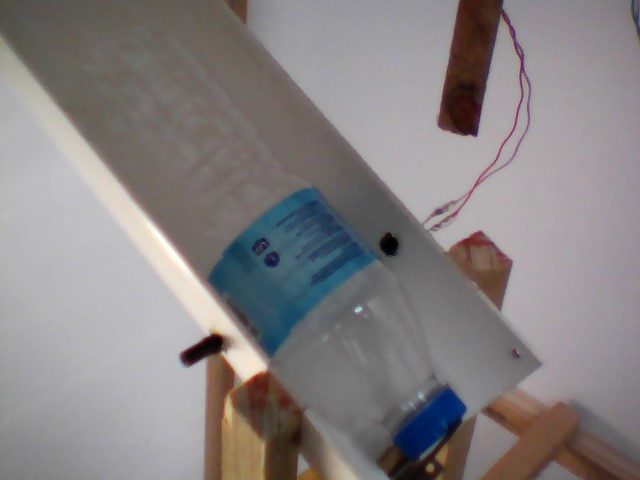plastico: (61, 19, 473, 470)
